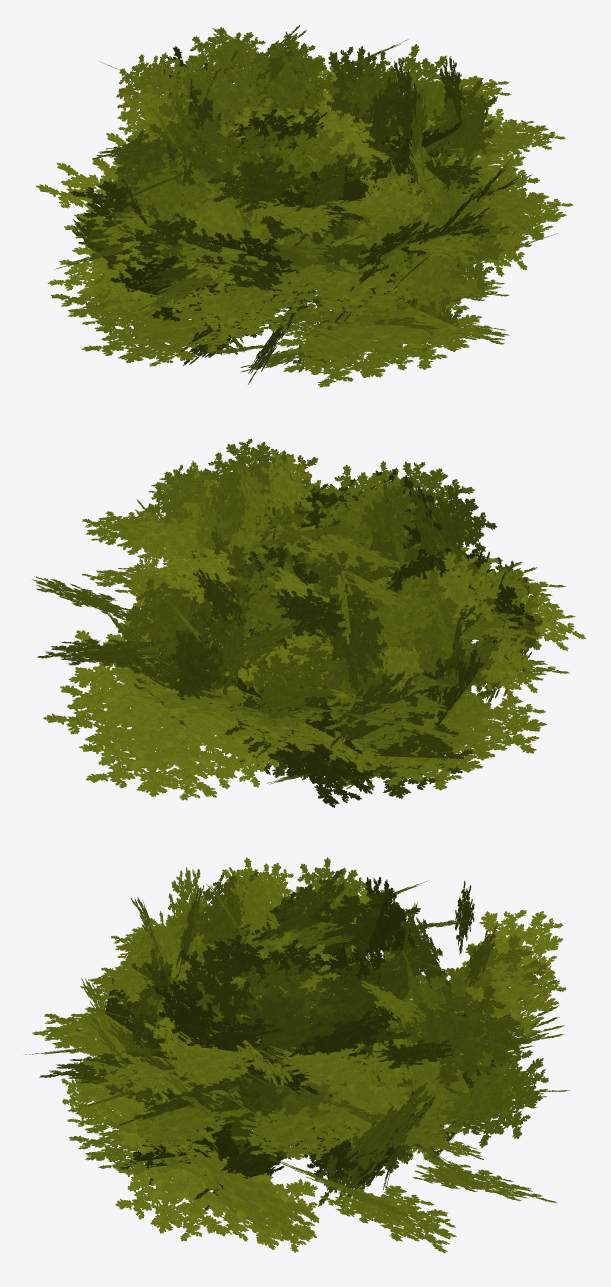
File: YellowBushLeaves.fbx
The picture shows the model from 3 angles, top to bottom: view 1: azimuth 30°, elevation 25°; view 2: azimuth 150°, elevation 25°; view 3: azimuth 270°, elevation 25°; orthographic projection. The views are drawn at different scales.
Parts seen in each view (by area): view 1: YellowBushLeaves_LOD0; view 2: YellowBushLeaves_LOD0; view 3: YellowBushLeaves_LOD0.
Boxes of the visible parts, box(x1,y1,x2,y2) form: YellowBushLeaves_LOD0: box(36, 25, 572, 387); YellowBushLeaves_LOD0: box(32, 438, 585, 807); YellowBushLeaves_LOD0: box(25, 857, 569, 1253).
Size of what is drawn, in the model's own units: 118 by 66.68 by 114.
